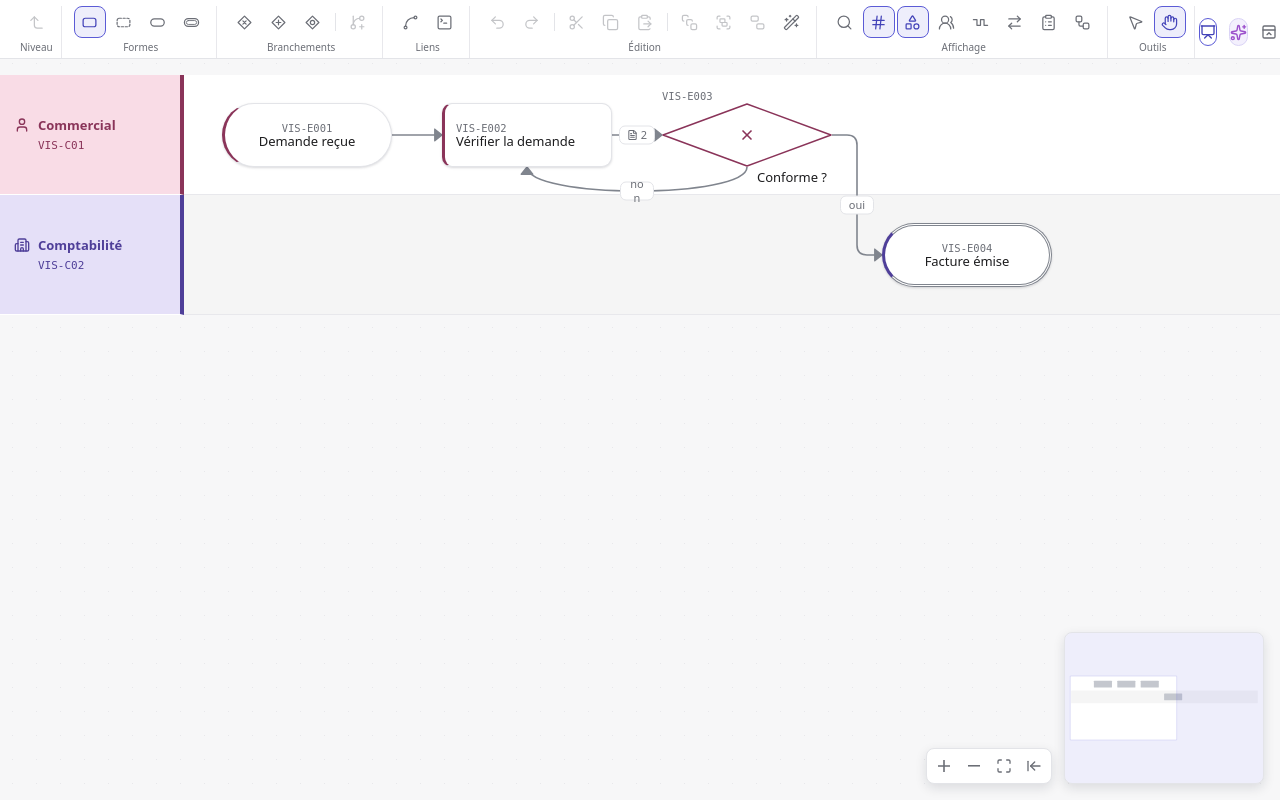
Test case: the comments read again when the field of a comment opens (R1-02, interface) › shows the line of now, not the one read at the start: removed then written again by another, it has the same version and another text
Press F5
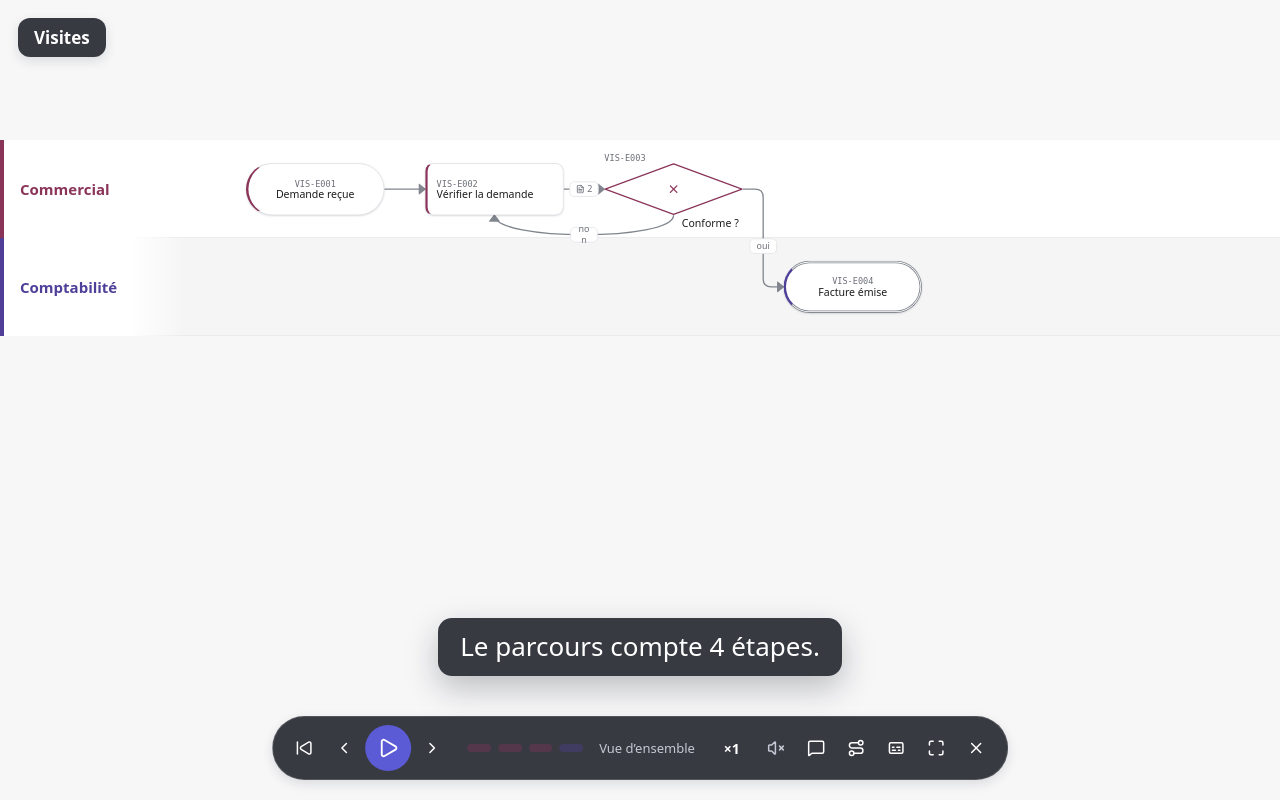
Press ArrowRight
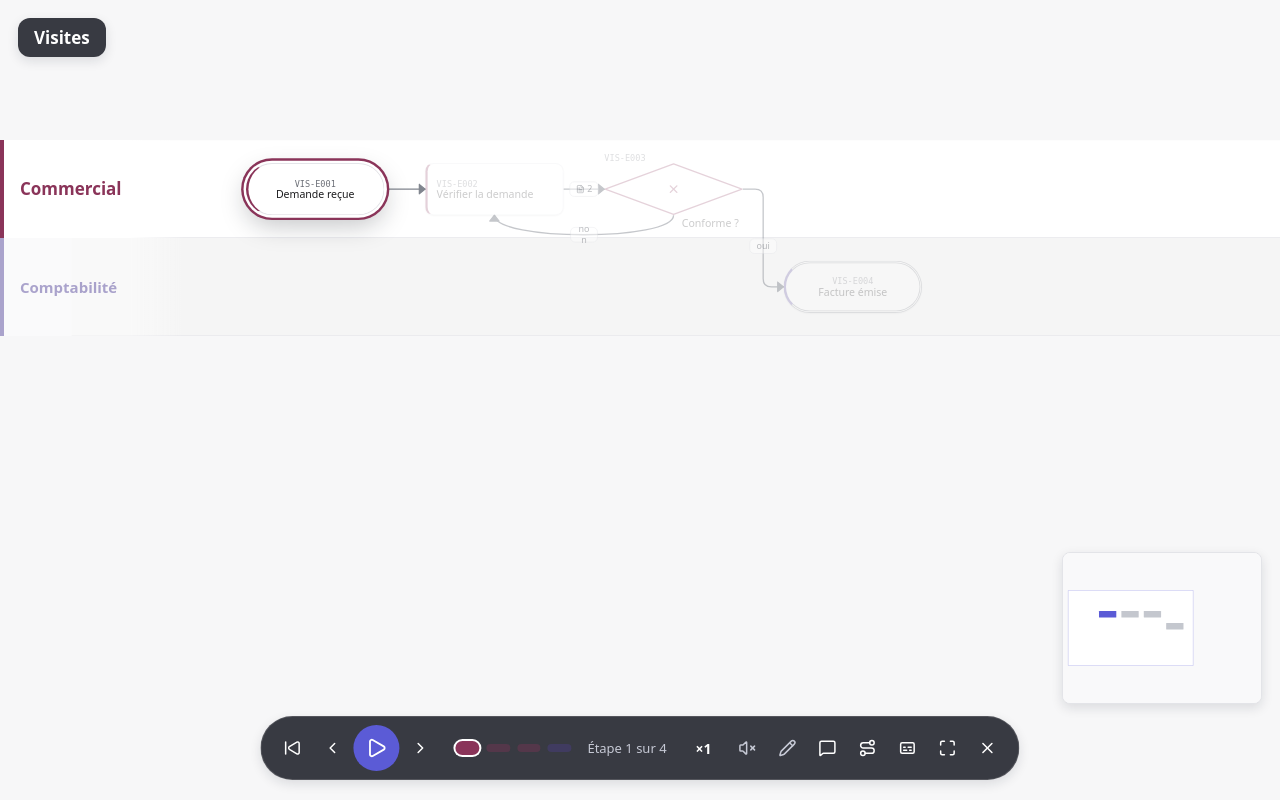
Press ArrowRight
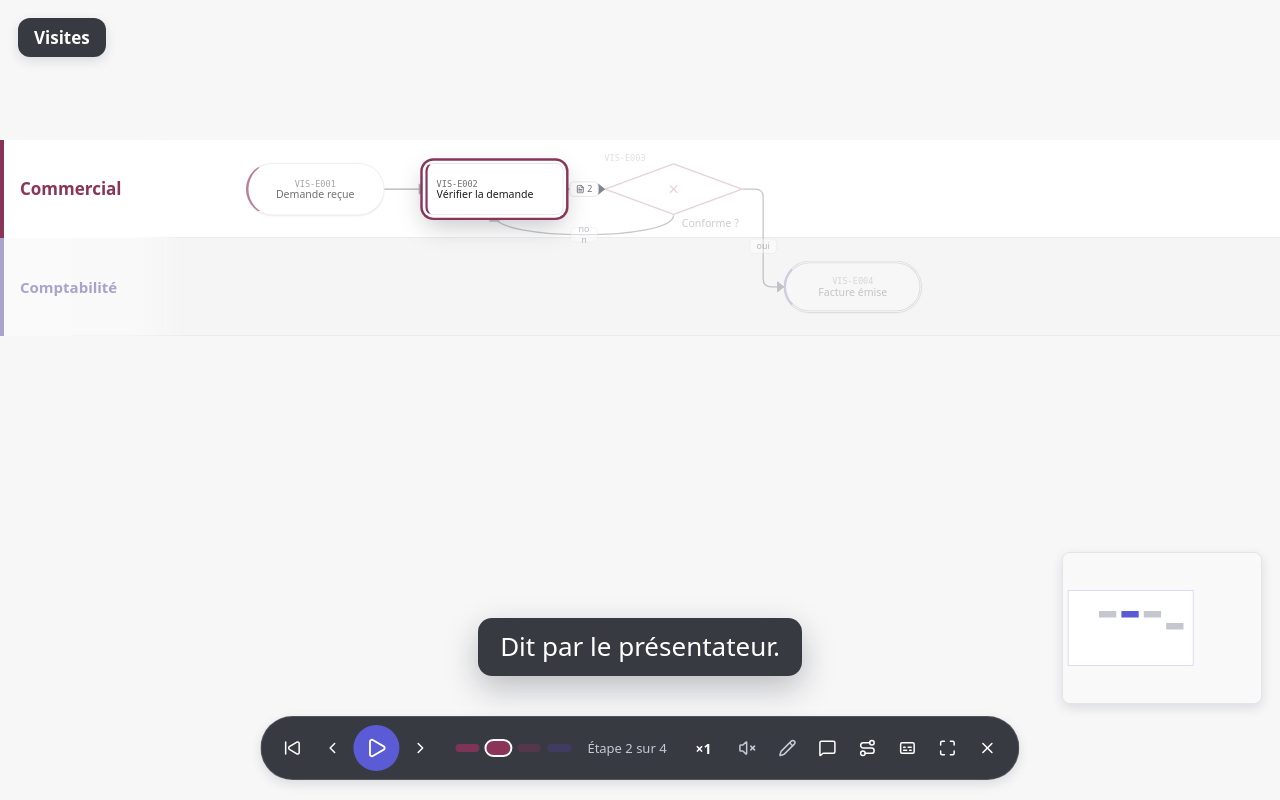
Press t
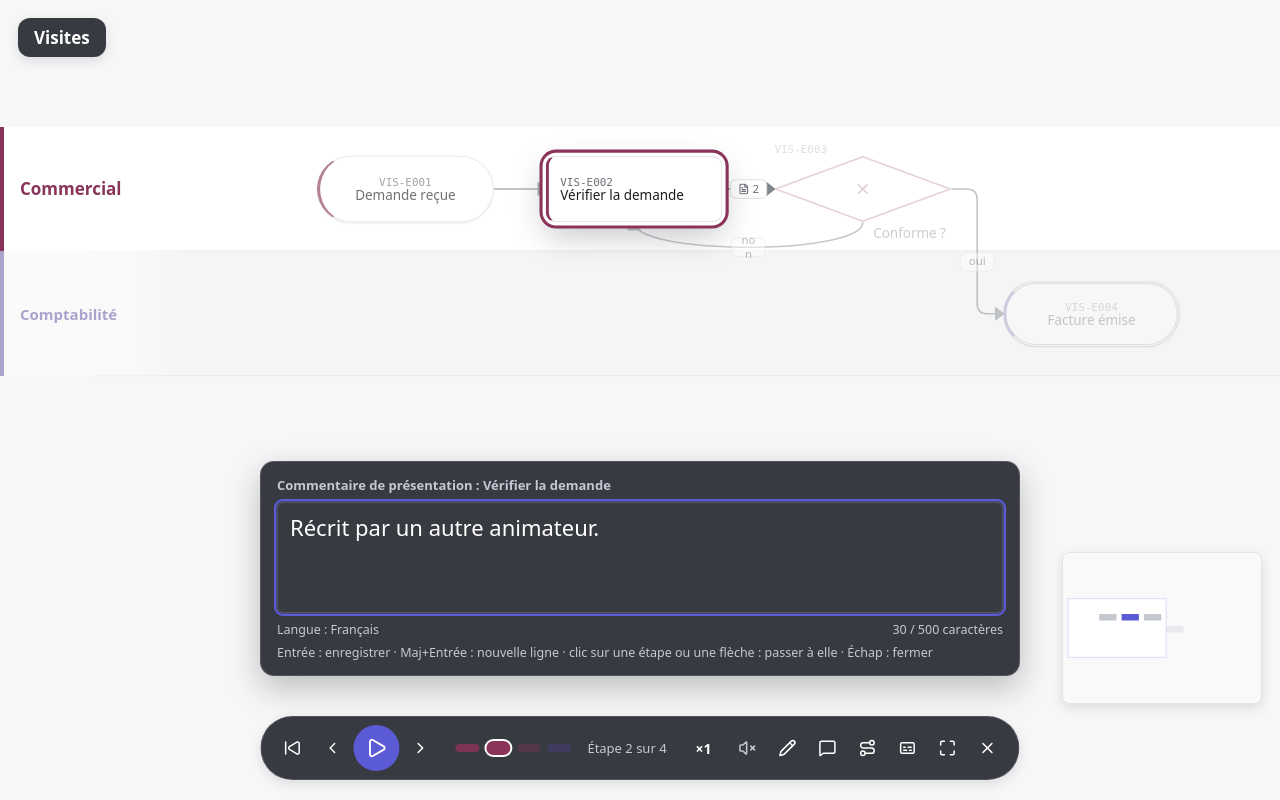
Expected: the text box with test id "presenter-comment-field" holds "Récrit par un autre animateur."
Replace the text in the text box with test id "presenter-comment-field" with "Récrit par un autre animateur, puis complété." at (640, 557), box [277,502,1003,613]
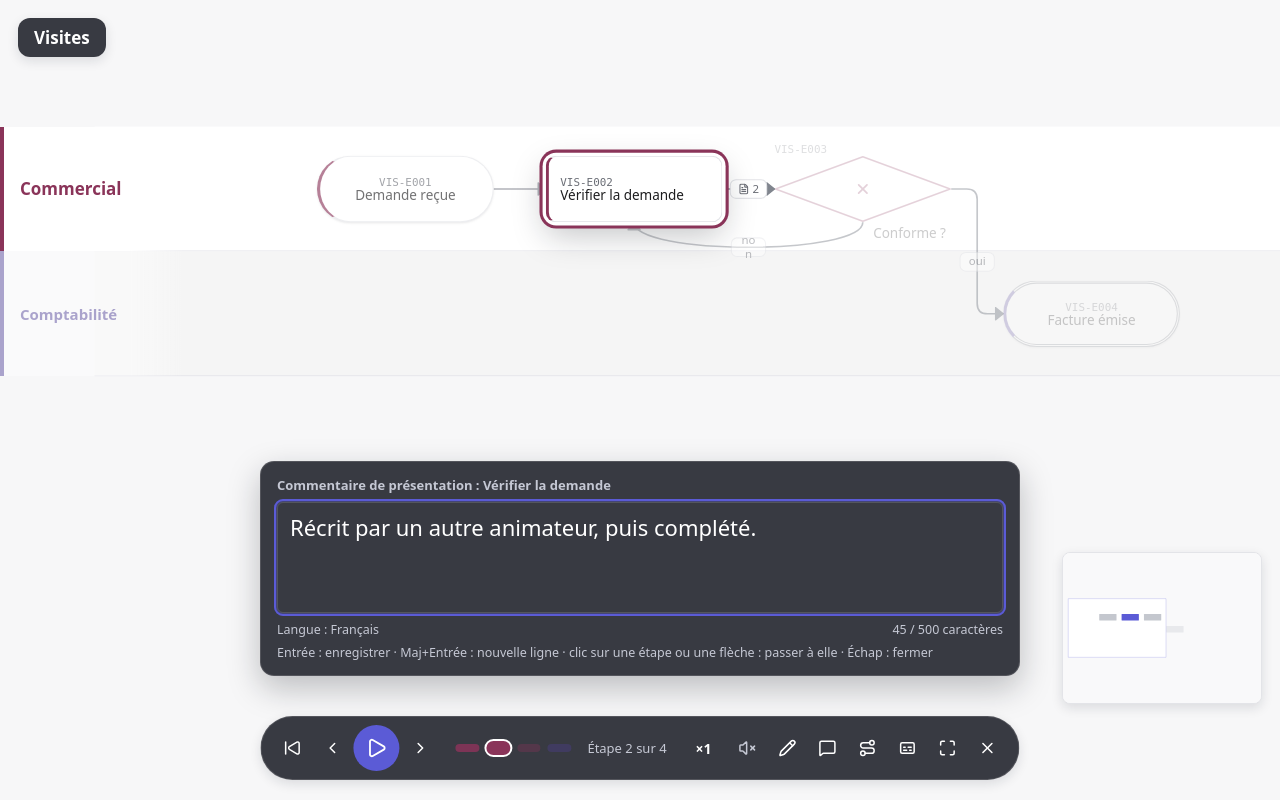
Press Enter in the text box with test id "presenter-comment-field", box [277,502,1003,613]
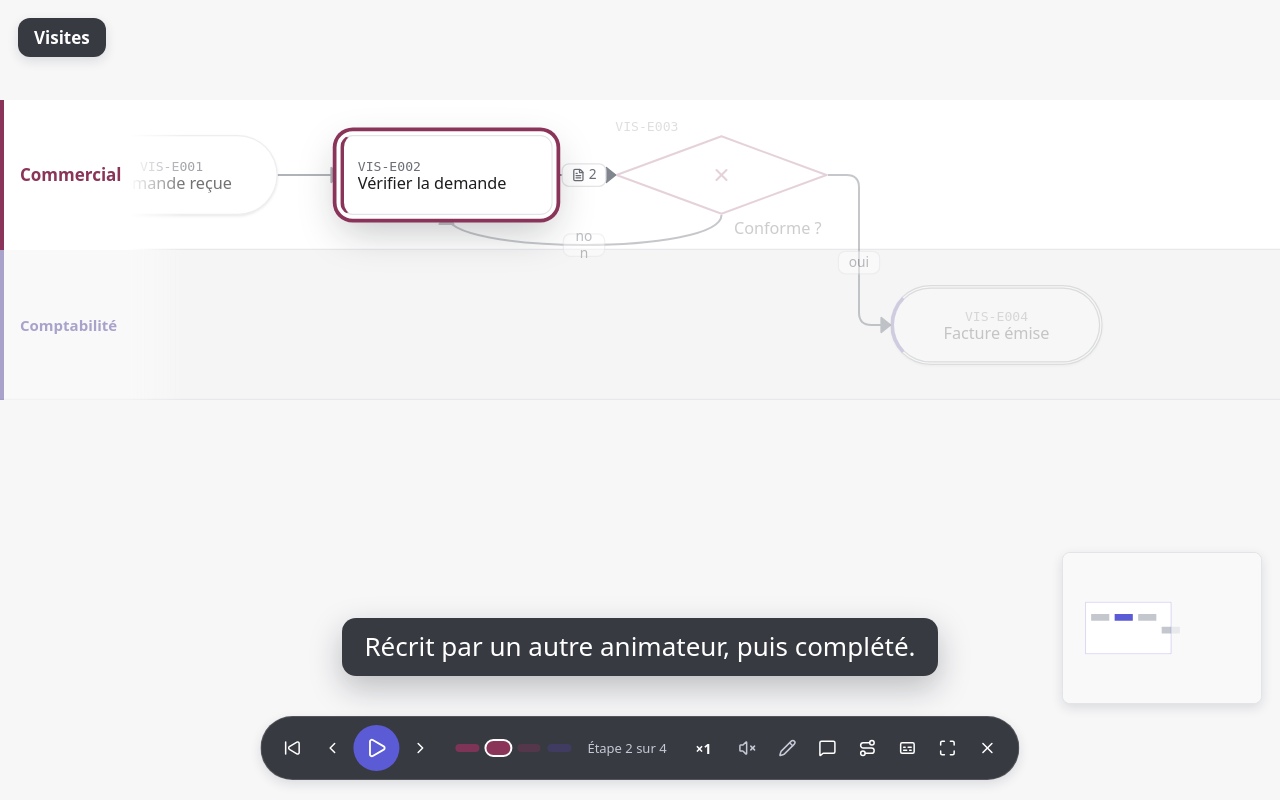
Expected: the element with test id "presenter-comment-editor" is gone
